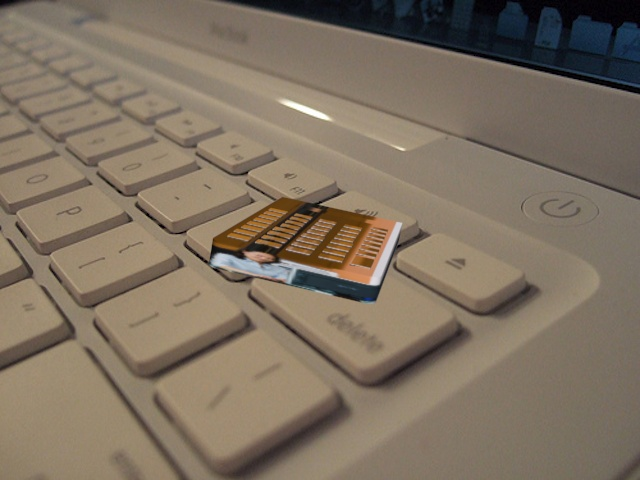calculator: (208, 192, 408, 305)
